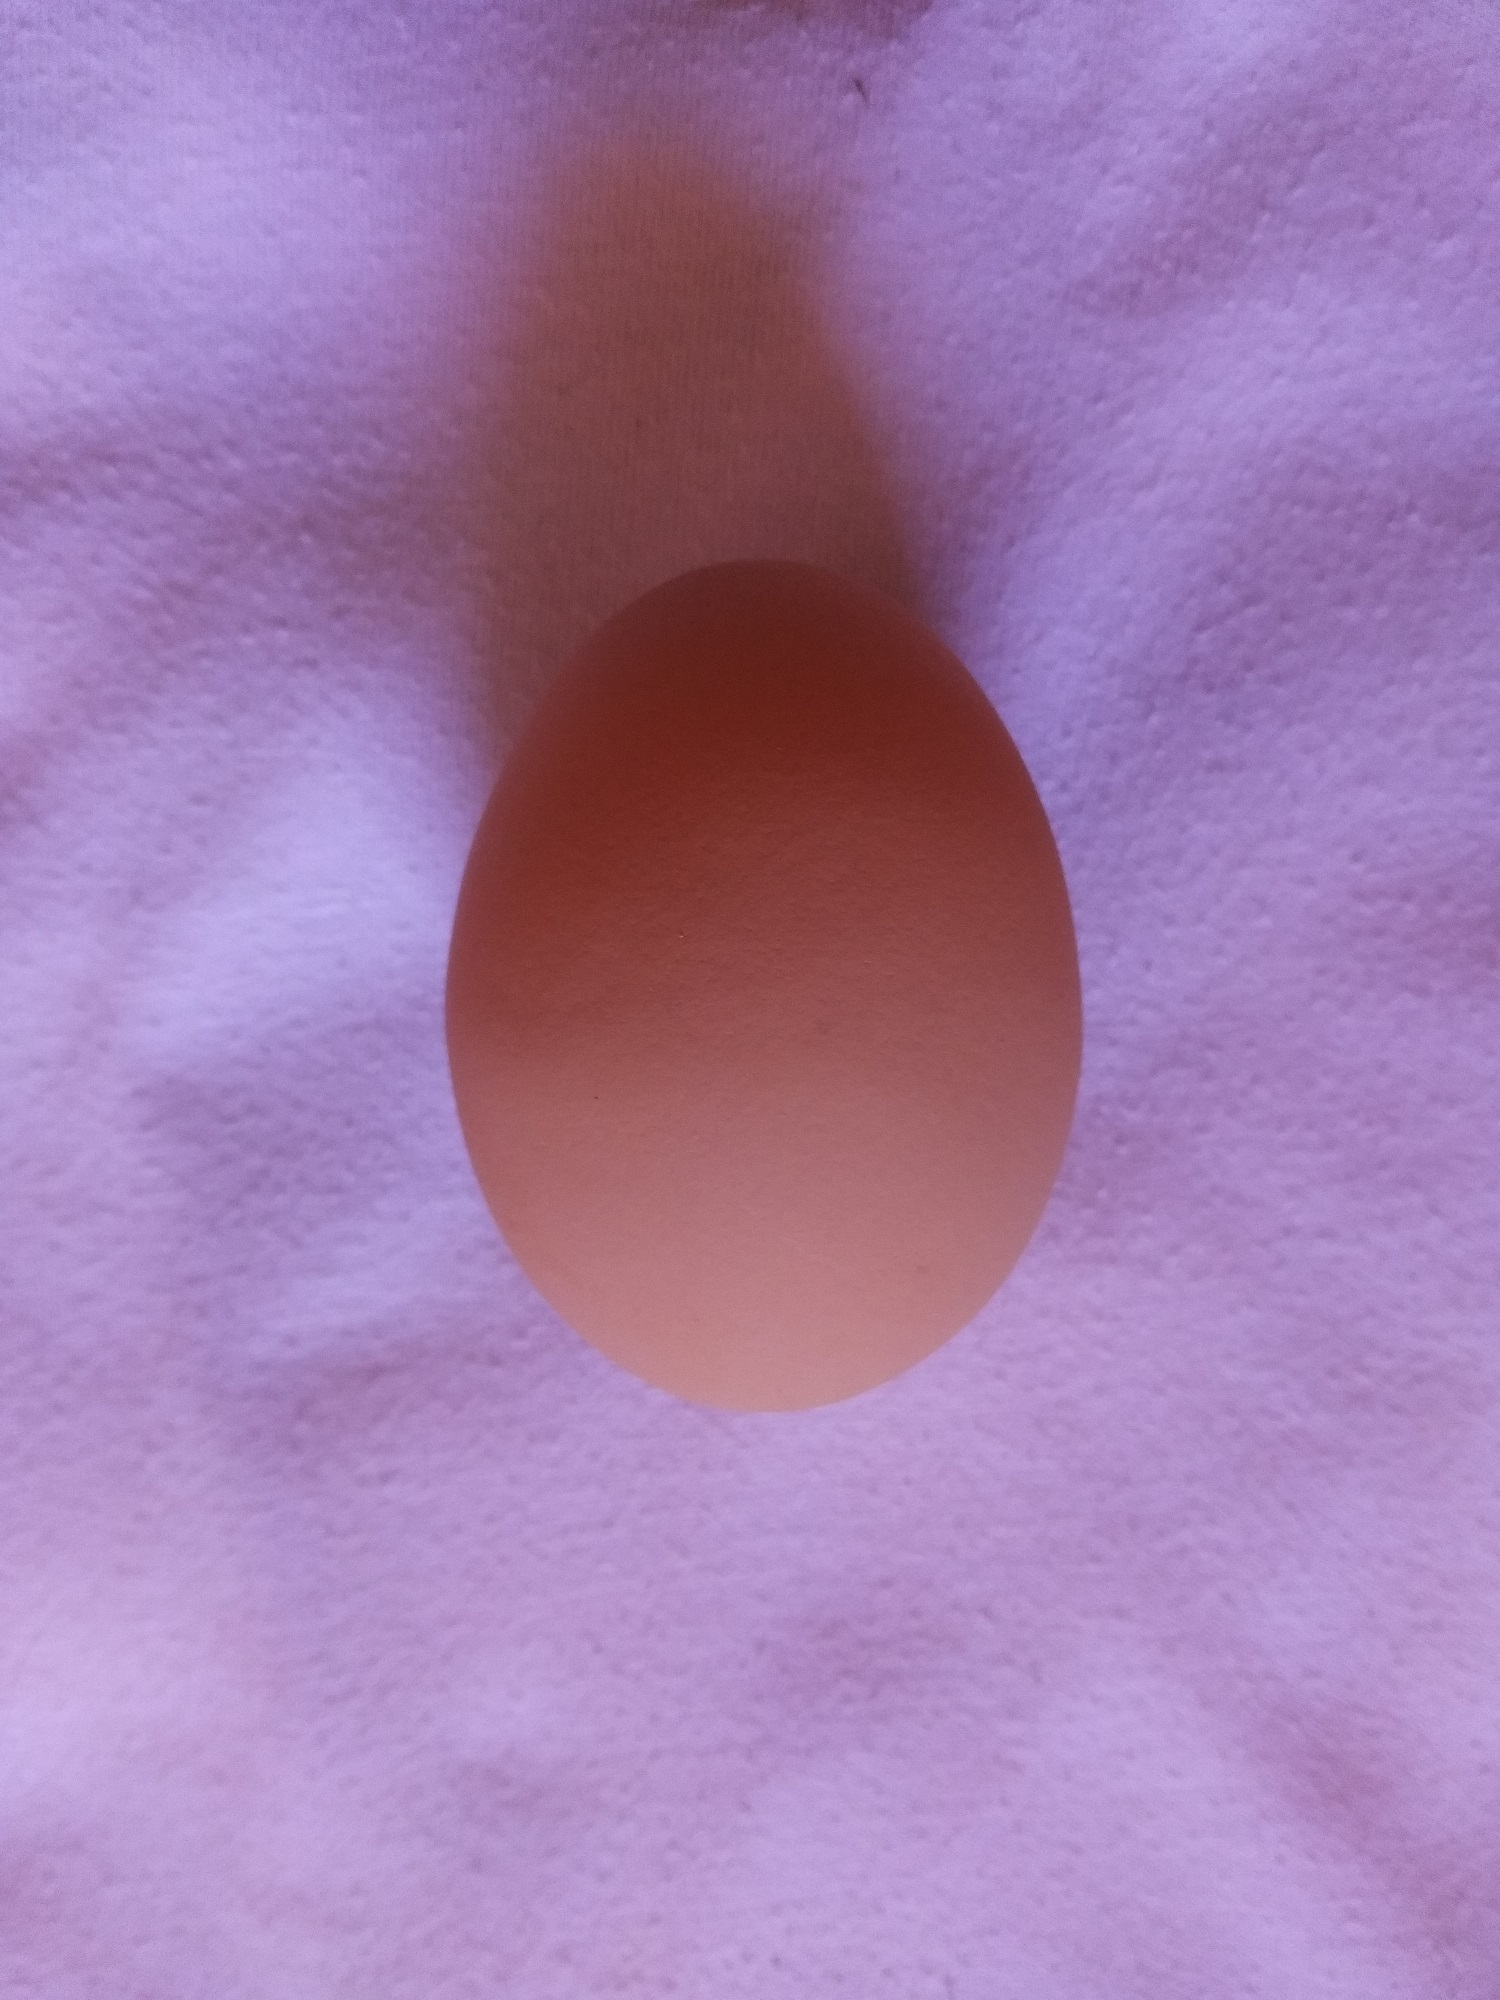Female: (433, 554, 1095, 1422)
